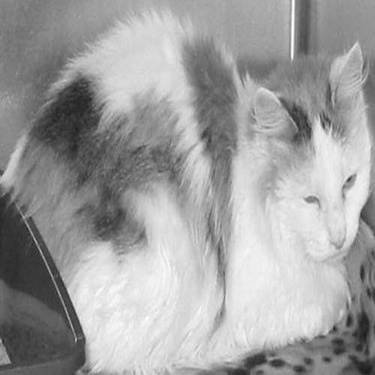cat: (2, 8, 369, 373)
